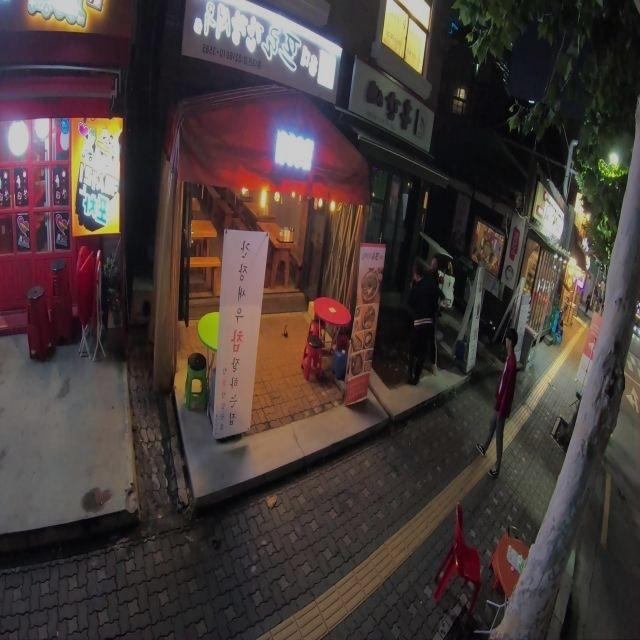fight: (400, 237, 447, 385)
non-fight: (480, 331, 520, 478)
